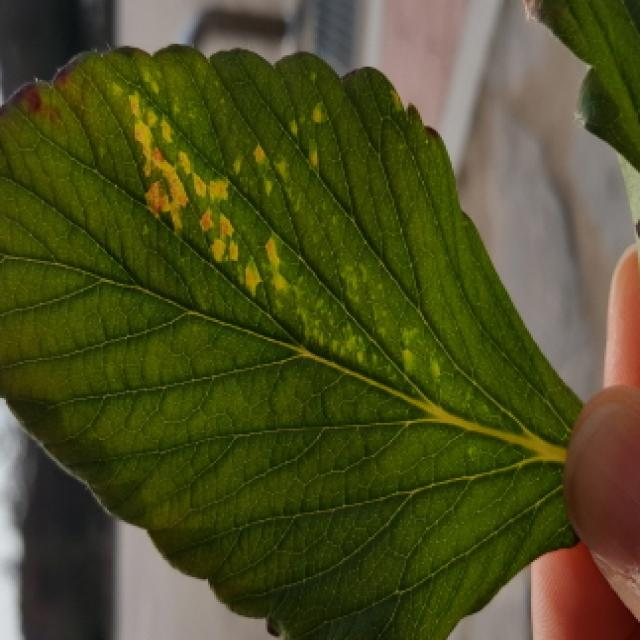Angular Leafspot: (109, 65, 465, 394)
